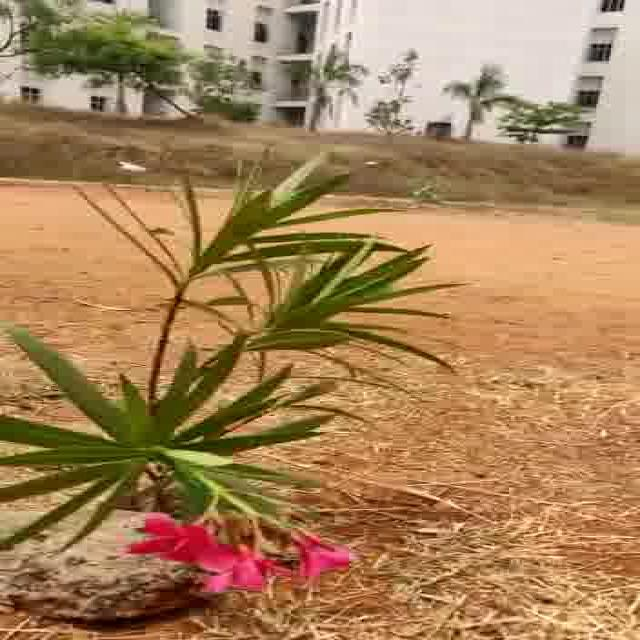Oleander: (53, 166, 473, 569)
